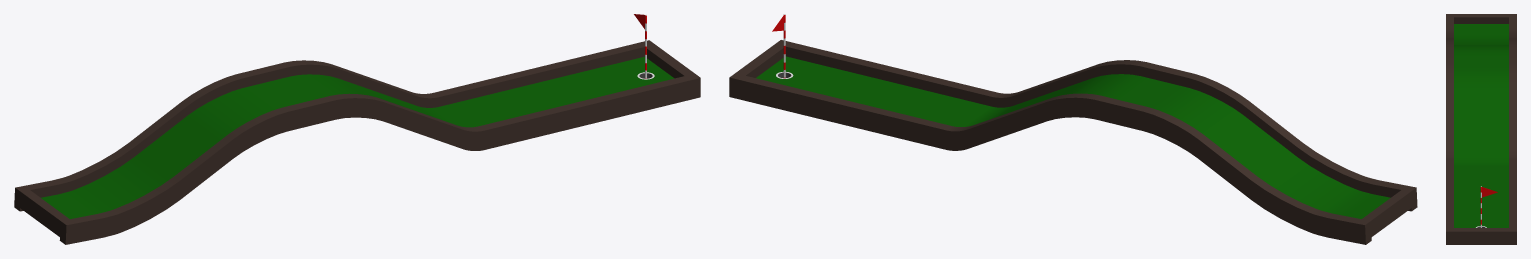
Rendered from Tutorial Course2.fbx.
3 renders of one model, left to right at view 1: azimuth 30°, elevation 25°; view 2: azimuth 150°, elevation 25°; view 3: azimuth 270°, elevation 25°, orthographic. The views are drawn at different scales.
Visible parts, largest first — view 1: CourseGrass, Course; view 2: CourseGrass, Course; view 3: Course, CourseGrass, Pole.
Boxes of the visible parts, x1,y1,x2,y2 form: CourseGrass: [14, 40, 700, 244]; Course: [41, 56, 674, 218]; CourseGrass: [729, 40, 1417, 244]; Course: [756, 56, 1390, 218]; Course: [1454, 24, 1508, 227]; CourseGrass: [1446, 14, 1516, 244]; Pole: [1480, 186, 1497, 227].
Size of the model in its own units: 3481 by 481 by 488.
